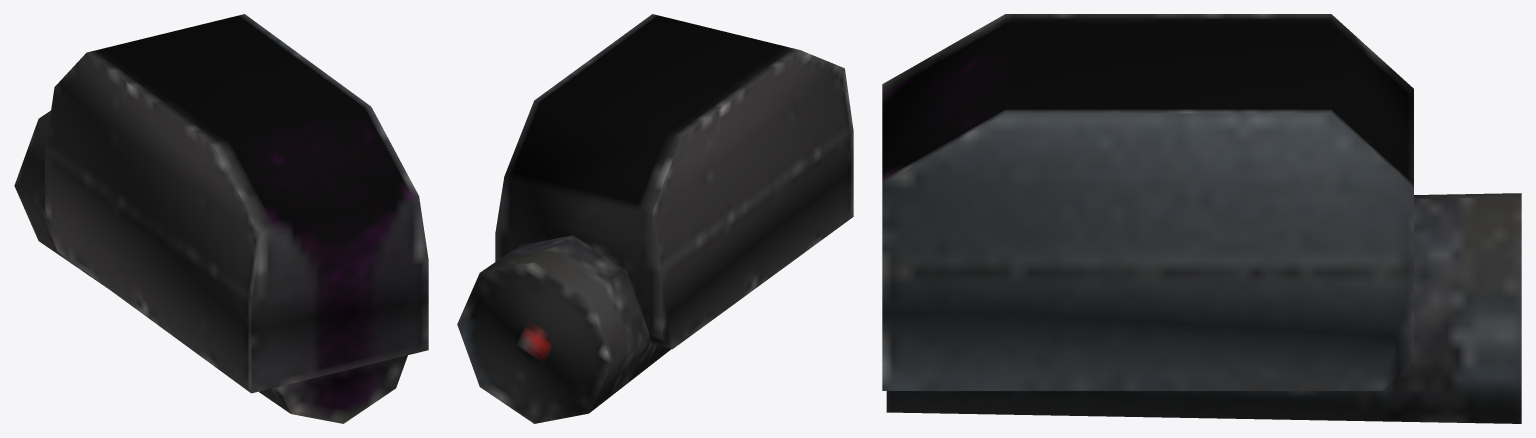
File: Pistol_Laser.fbx
3 views of the same model, side by side, from view 1: azimuth 30°, elevation 25°; view 2: azimuth 150°, elevation 25°; view 3: azimuth 270°, elevation 25° (orthographic). The views are drawn at different scales.
Visible parts, largest first — view 1: Pistol_Laser; view 2: Pistol_Laser; view 3: Pistol_Laser.
Part boxes in pixels (bbox=[...]): Pistol_Laser: bbox=[14, 14, 428, 423]; Pistol_Laser: bbox=[457, 14, 853, 423]; Pistol_Laser: bbox=[882, 14, 1521, 423].
Bounding box in the file's own units: 0.0176 × 0.0426 × 0.0259.
